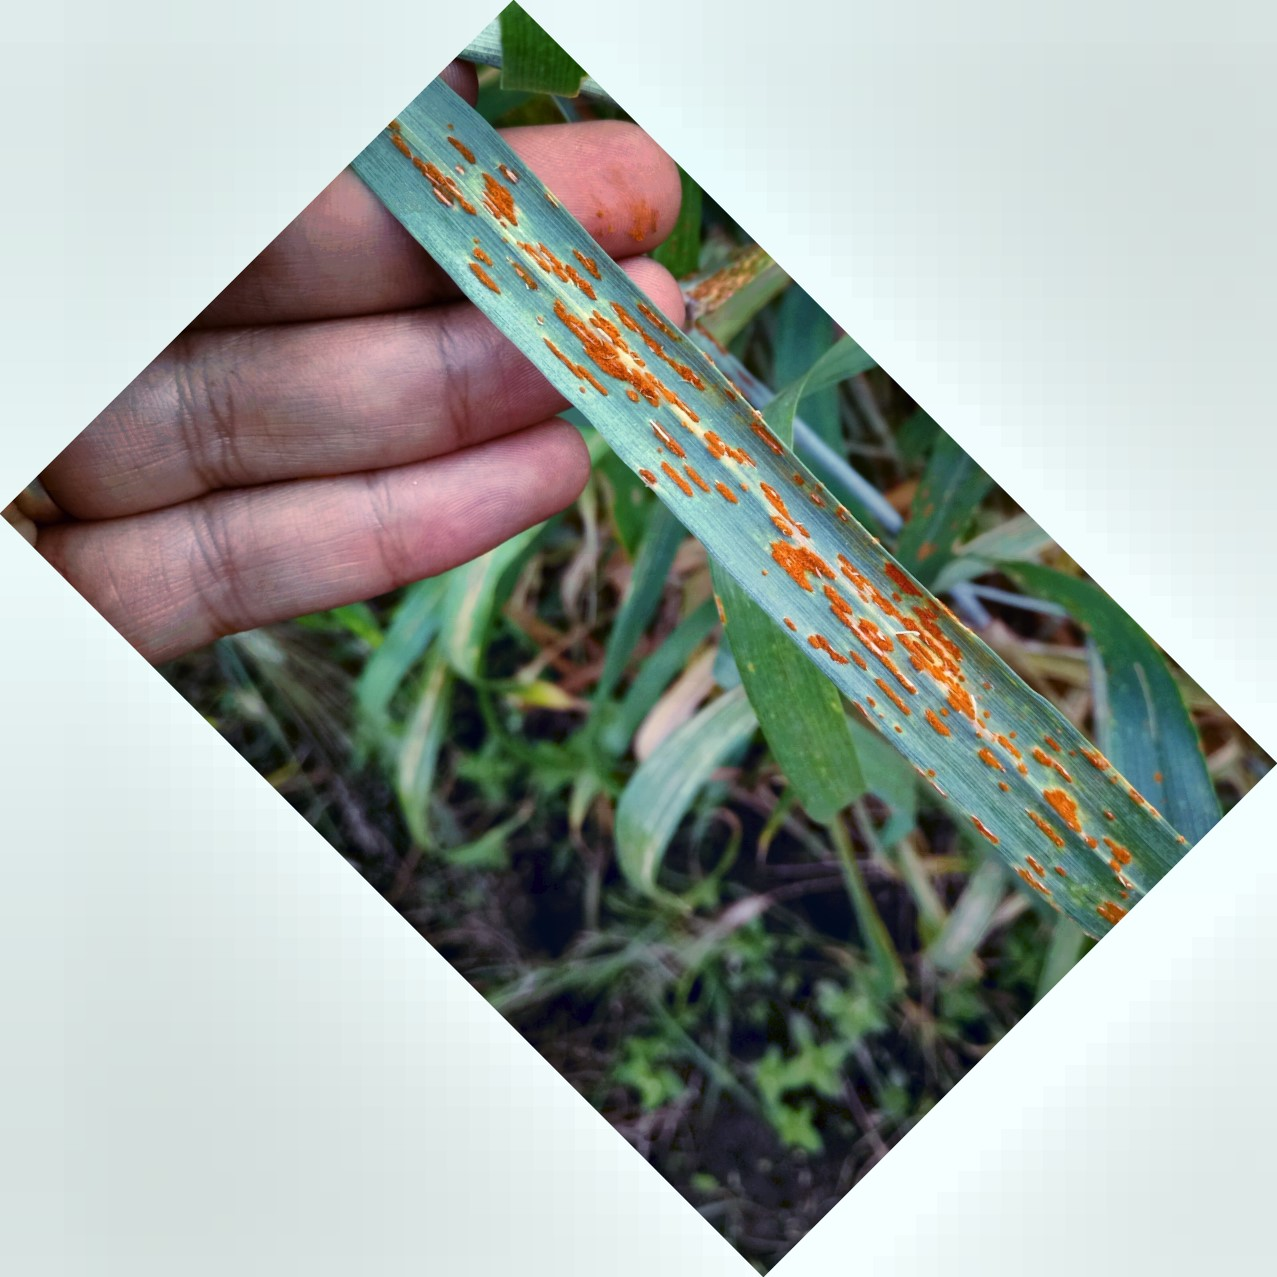Leaf Rust: (403, 120, 1143, 870)
